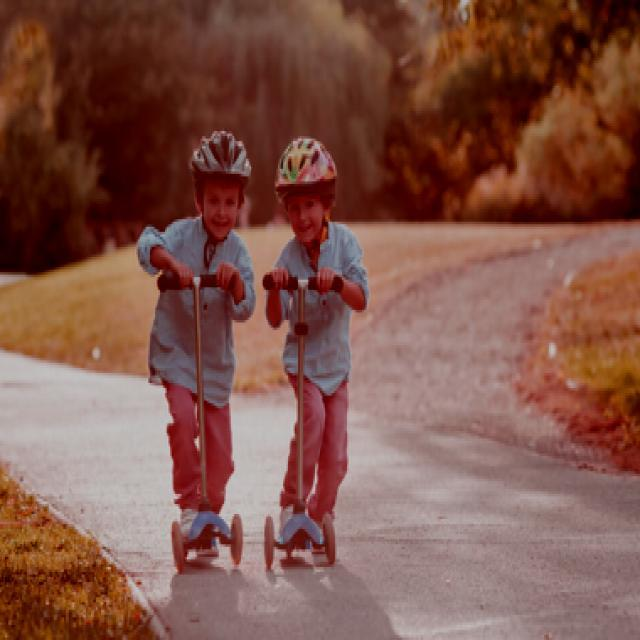Helmet: (268, 123, 344, 244)
